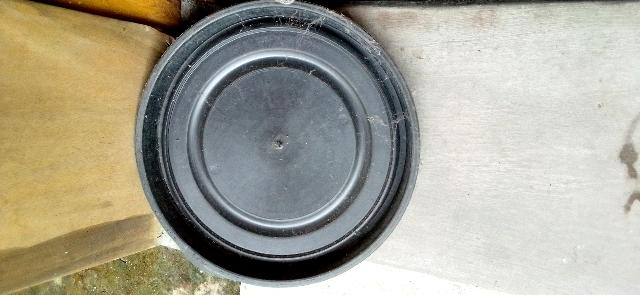hardplastic: (138, 5, 417, 279)
